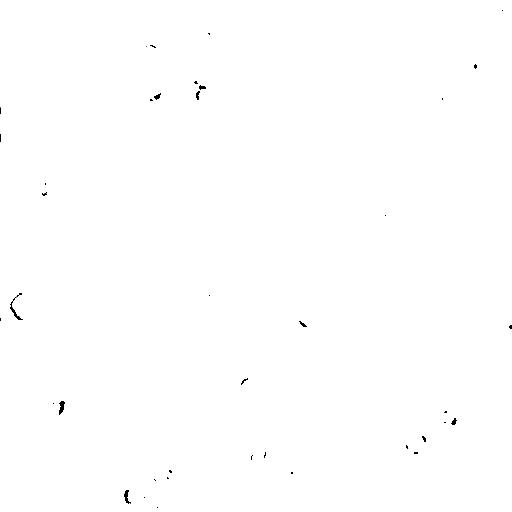micro-algae: (350, 0, 433, 46), (409, 419, 467, 480), (195, 46, 239, 83), (335, 413, 374, 447), (177, 71, 214, 105), (430, 400, 465, 435), (453, 47, 488, 79), (269, 181, 301, 214), (9, 288, 37, 321), (447, 0, 486, 23), (204, 273, 229, 306), (401, 426, 429, 455), (197, 21, 224, 51), (187, 1, 219, 26), (272, 450, 300, 478), (159, 331, 187, 357), (489, 0, 512, 31), (122, 480, 147, 506), (373, 308, 397, 334), (137, 43, 160, 69), (299, 305, 325, 328), (117, 465, 141, 489), (97, 270, 126, 289), (417, 1, 449, 18), (143, 81, 167, 103), (373, 196, 399, 216), (151, 460, 173, 483), (115, 387, 137, 409), (241, 140, 264, 161), (197, 83, 218, 105), (430, 83, 449, 106), (38, 0, 71, 13), (129, 298, 149, 319), (384, 154, 405, 173), (281, 318, 300, 339), (63, 395, 81, 417), (237, 375, 258, 393), (497, 313, 511, 339), (249, 445, 266, 464), (50, 396, 64, 416), (0, 123, 15, 141), (37, 179, 50, 198), (153, 499, 171, 510)
